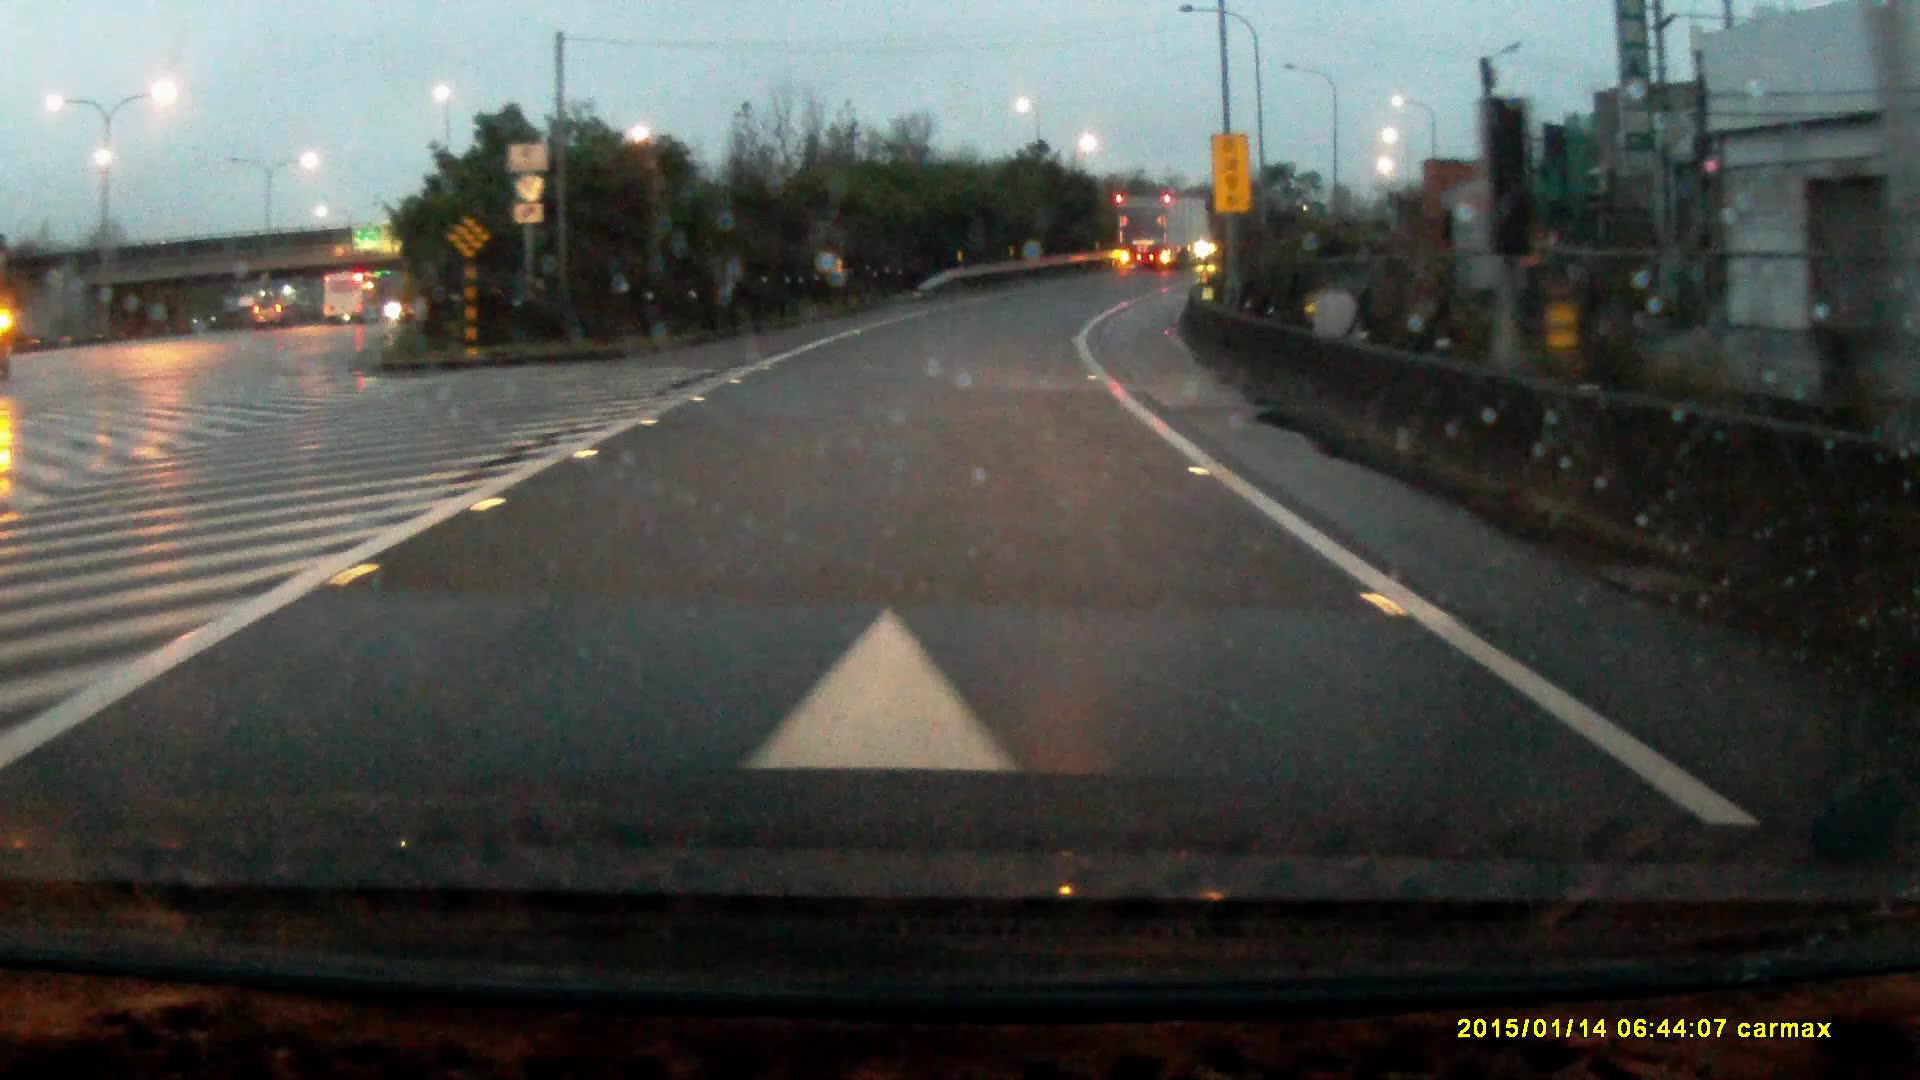vehicle: (1117, 196, 1216, 274), (322, 273, 378, 328), (255, 303, 287, 334)
